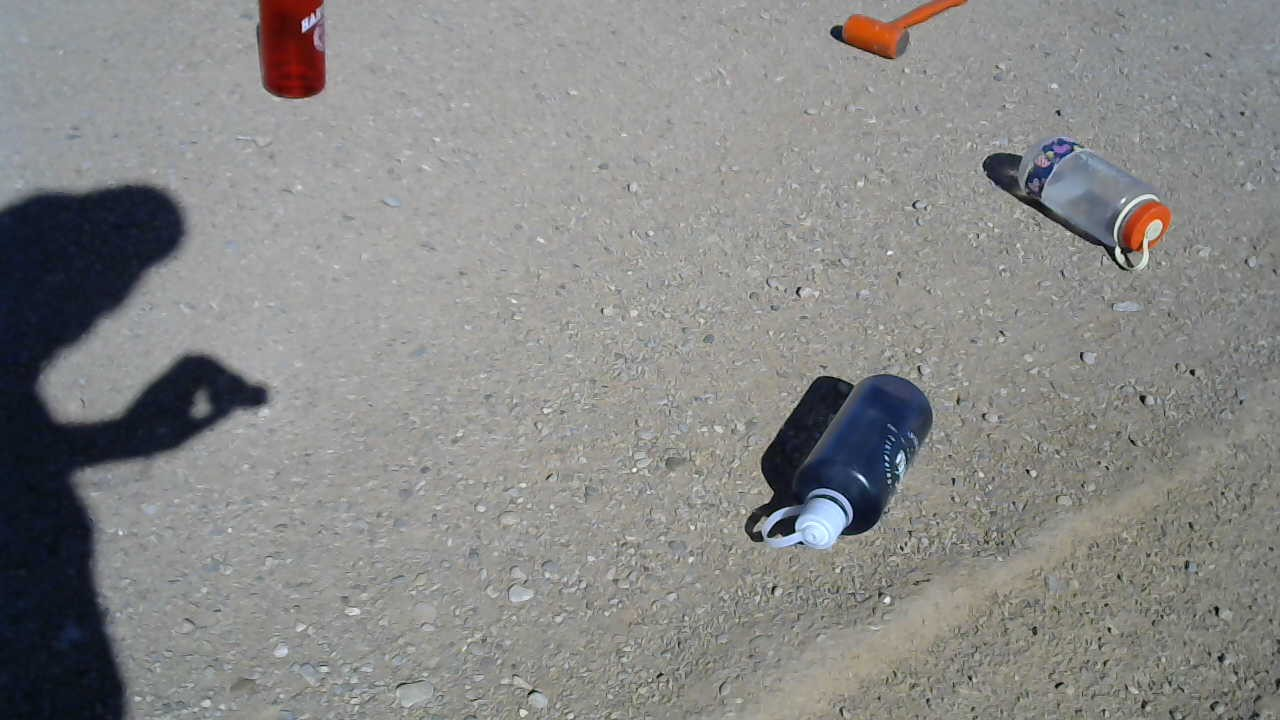bottle: (760, 372, 936, 552), (1015, 129, 1173, 272), (257, 0, 328, 99)
hammer: (836, 0, 966, 63)
